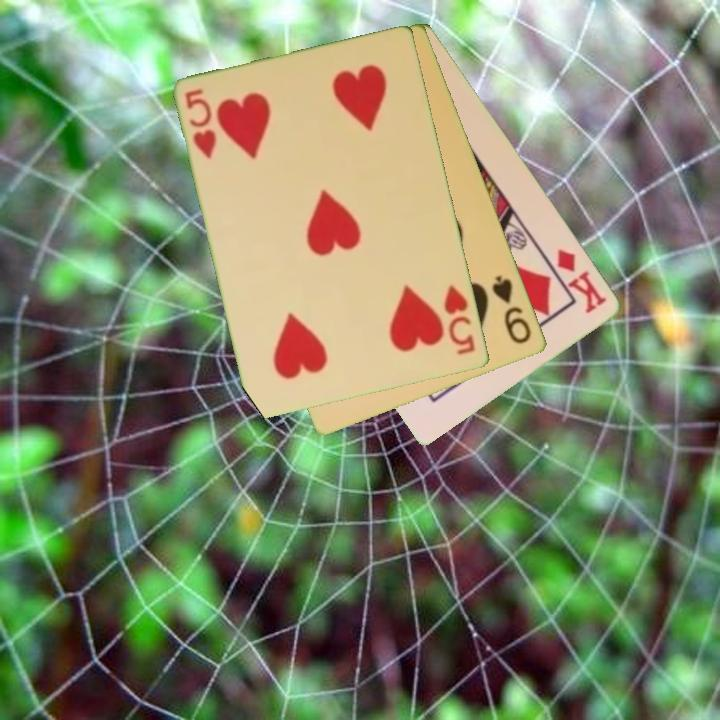5h: (182, 85, 220, 162), (441, 282, 478, 358)
9s: (489, 272, 535, 347)
Kd: (554, 245, 611, 317)
